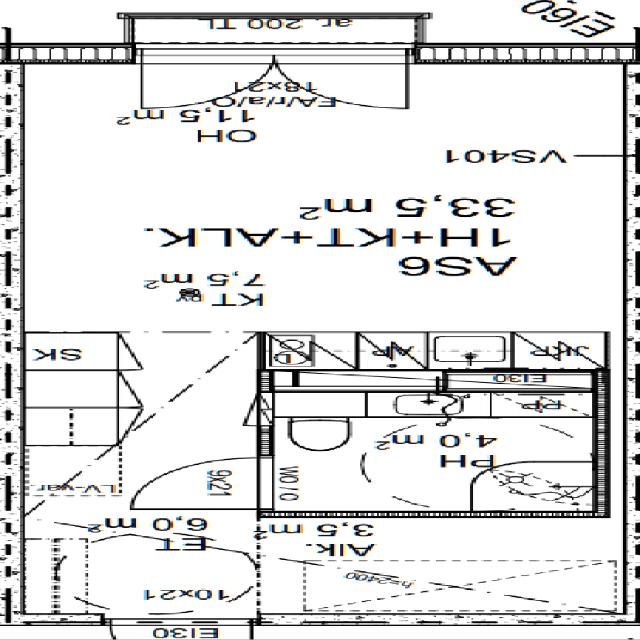door: (274, 42, 409, 118), (139, 42, 274, 118), (132, 457, 274, 509)
